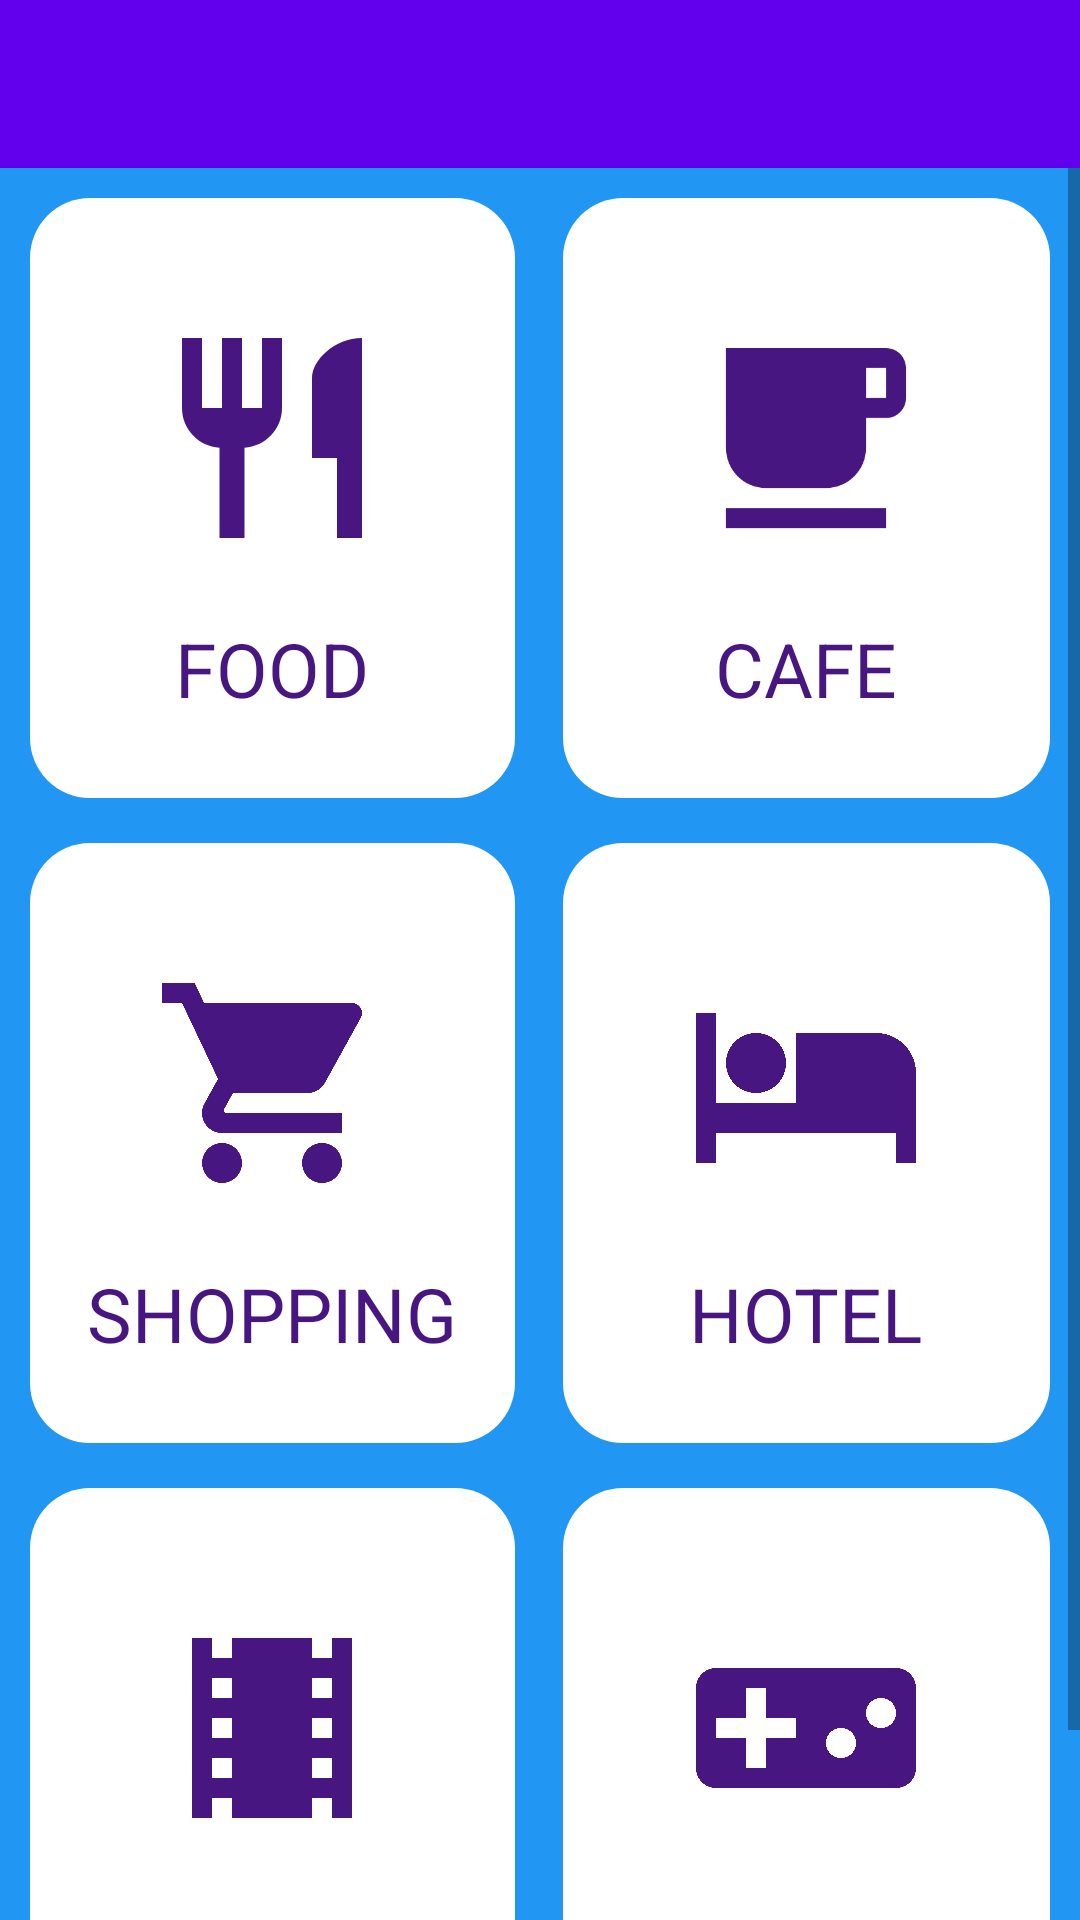

Locate icon controls on the screen. Image size 1080w x 1920h, boxes as (x1, y1, x2, y2).
movievector: (192, 1638, 352, 1818)
restrauntvector: (182, 338, 362, 538)
